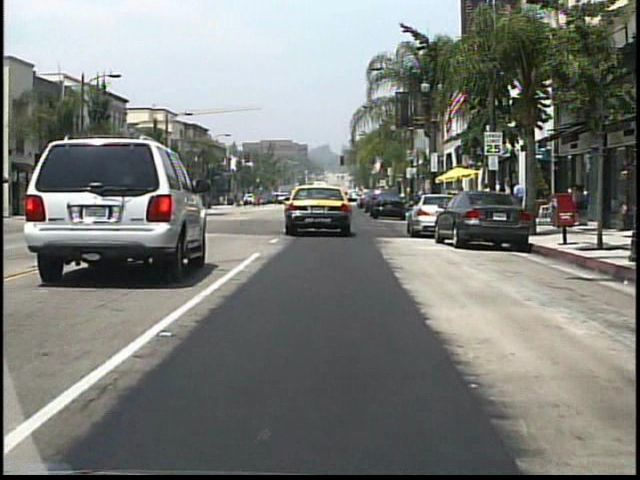person: (498, 176, 516, 216), (511, 180, 527, 222), (492, 180, 506, 218), (505, 183, 517, 216), (273, 190, 281, 206)
